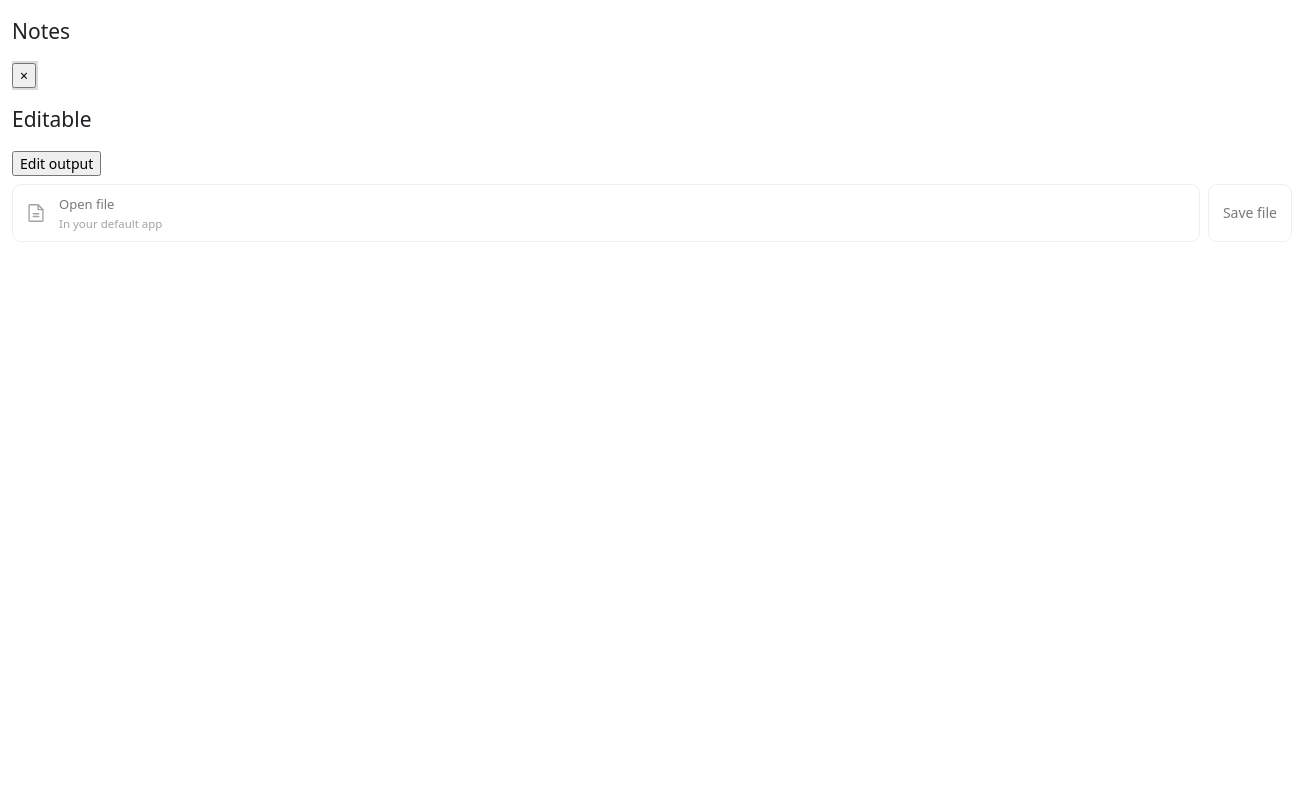
Test: verified artifact previews › opens a published text result in the durable output editor with source ownership
Click the button "Edit output": click(57, 163) [12,151,101,176]
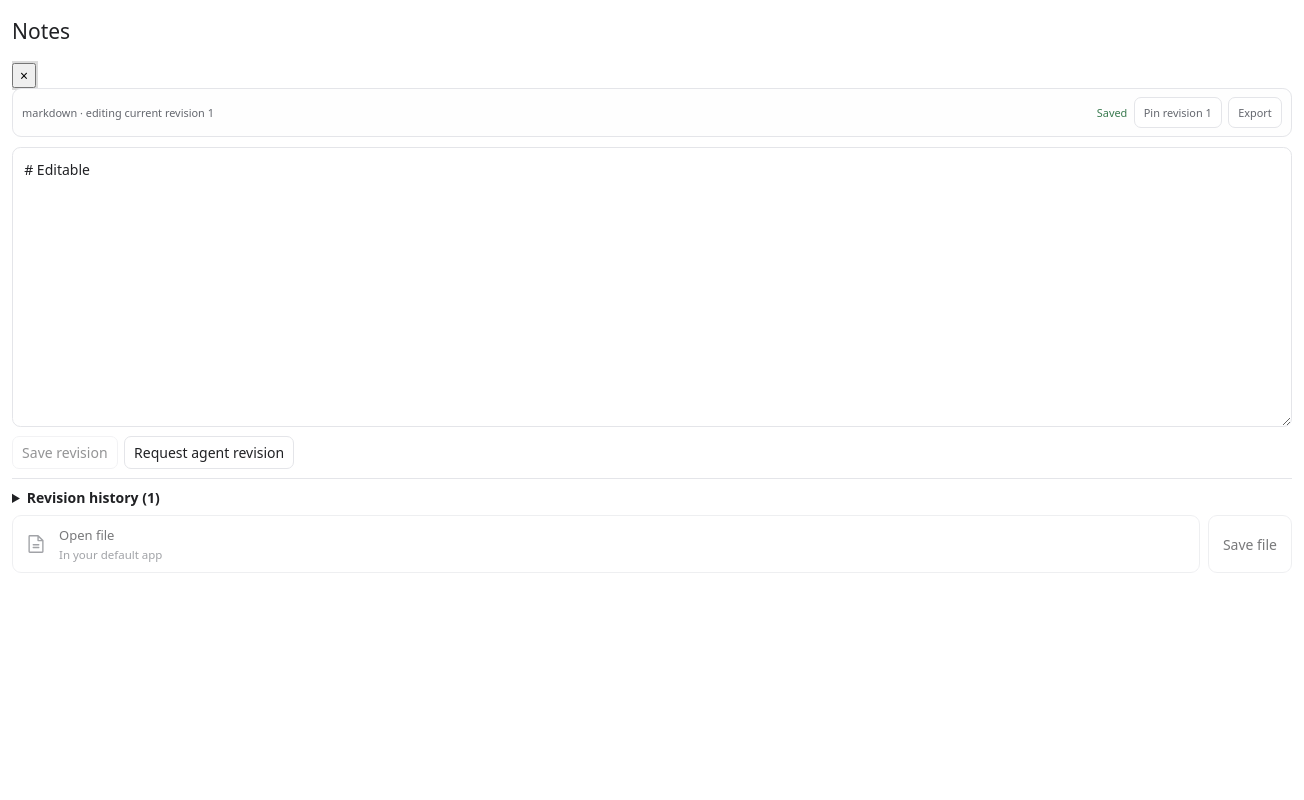
expect the text box named "Notes content" holds "# Editable": met, box [12,146,1292,426]
